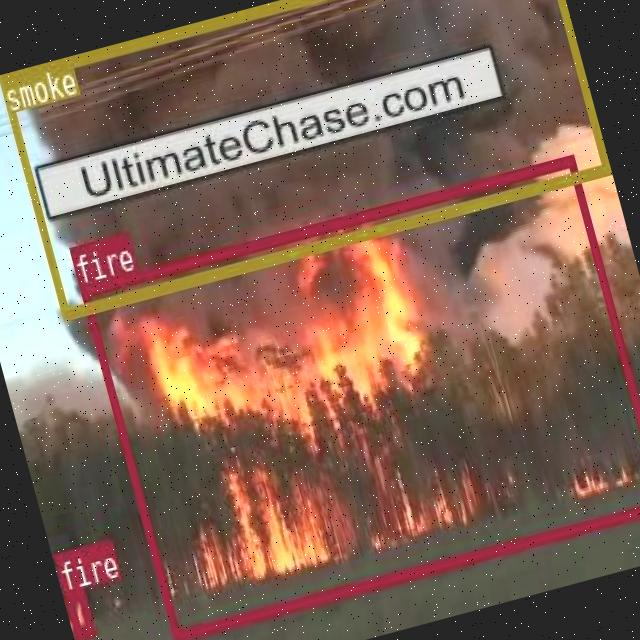fire: (78, 153, 640, 640), (62, 587, 94, 638)
smoke: (0, 0, 608, 317)
